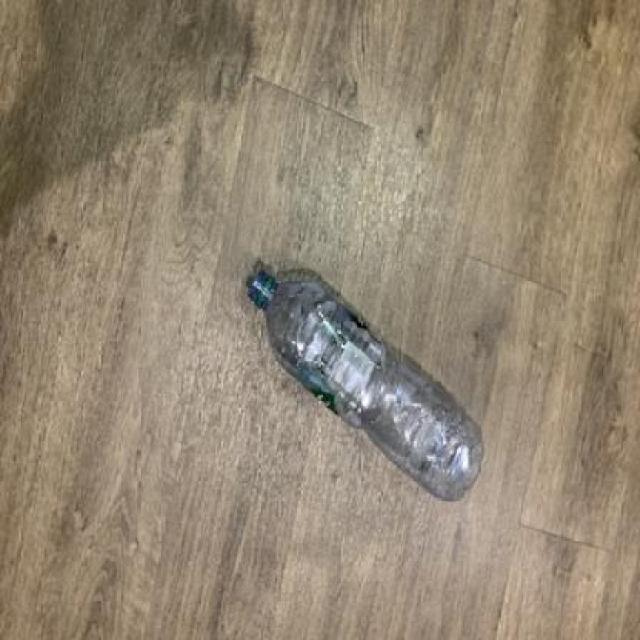trash: (233, 264, 490, 504)
